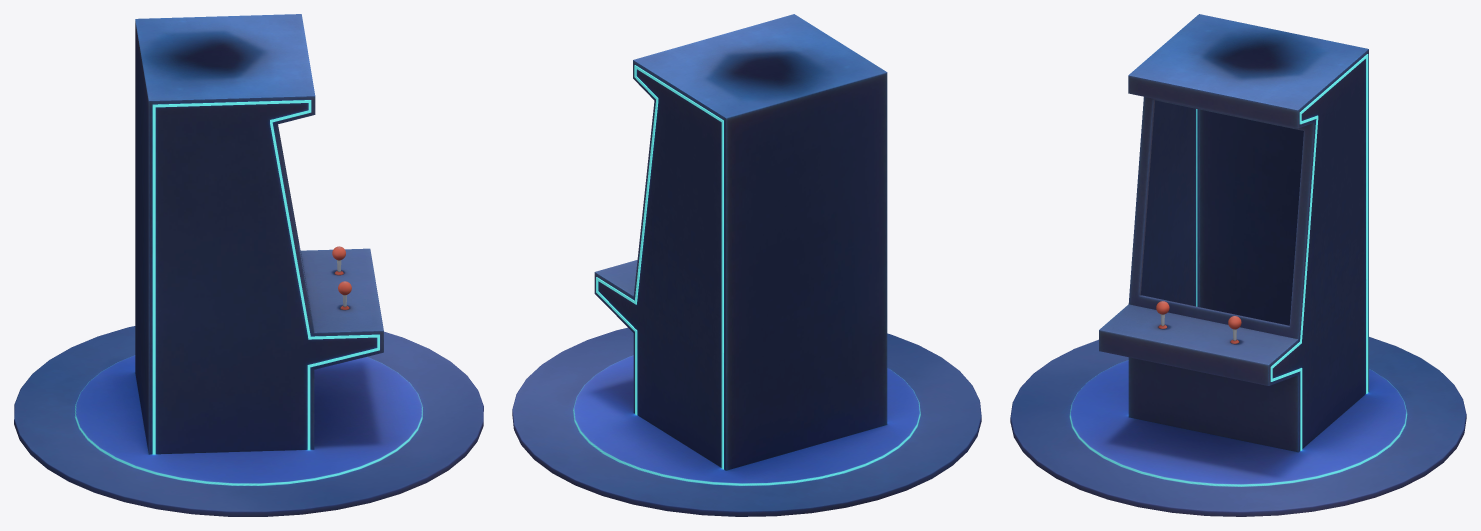
File: GameStation_LOD0.glb
3 renders of one model, left to right at view 1: azimuth 30°, elevation 25°; view 2: azimuth 150°, elevation 25°; view 3: azimuth 270°, elevation 25°, orthographic. The views are drawn at different scales.
Parts seen in each view (by area): view 1: Game Station_PROCESSED.001_LOD0; view 2: Game Station_PROCESSED.001_LOD0; view 3: Game Station_PROCESSED.001_LOD0.
Part boxes in pixels (x1,y1,x2,y2): Game Station_PROCESSED.001_LOD0: (14,14,483,516); Game Station_PROCESSED.001_LOD0: (512,14,981,516); Game Station_PROCESSED.001_LOD0: (1010,14,1466,516).
Bounding box in the file's own units: 4.1 × 3.47 × 4.1.
1 material, 1 textured.
